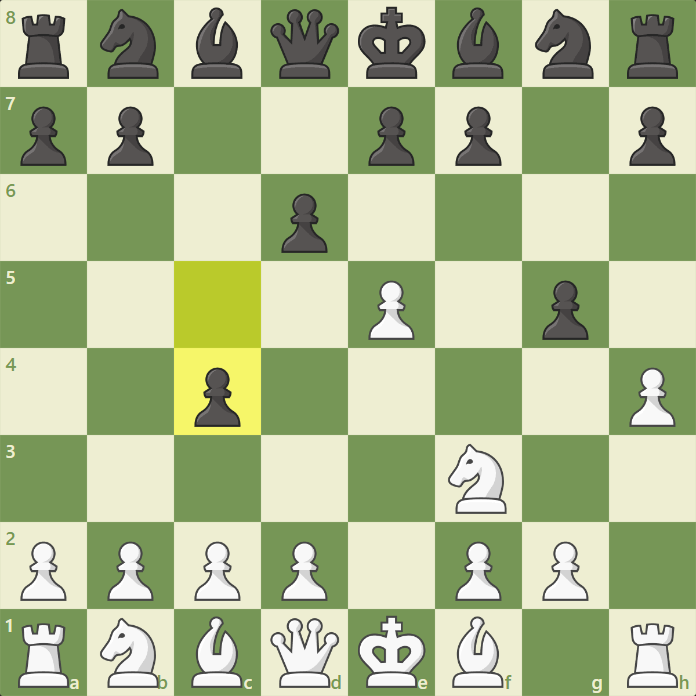B: (449, 614, 507, 691), (188, 613, 244, 692)
K: (353, 613, 428, 691)
N: (98, 614, 162, 692), (444, 441, 509, 517)
P: (363, 275, 417, 344), (624, 362, 678, 431), (537, 535, 591, 604), (451, 534, 505, 603), (275, 536, 329, 605), (189, 535, 243, 604), (102, 535, 156, 604), (16, 534, 70, 603)
Q: (268, 614, 343, 691)
R: (11, 619, 73, 691), (622, 618, 682, 692)
b: (186, 4, 246, 84), (446, 4, 505, 81)
k: (355, 4, 425, 83)
n: (531, 5, 596, 82), (98, 8, 162, 82)
p: (188, 364, 245, 431), (538, 276, 595, 343), (275, 189, 332, 256), (361, 103, 418, 170), (447, 103, 504, 170), (626, 103, 683, 170), (101, 102, 158, 169), (13, 101, 70, 168)
q: (265, 6, 342, 83)
r: (14, 10, 74, 83), (622, 11, 682, 82)
